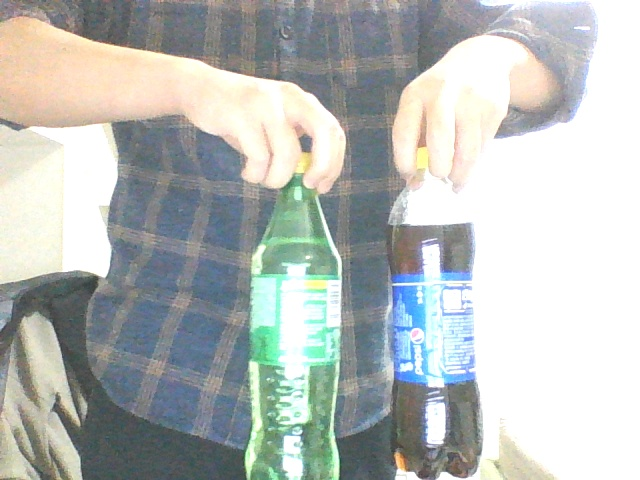Cola: (387, 148, 484, 476)
Sprite: (242, 152, 345, 477)
